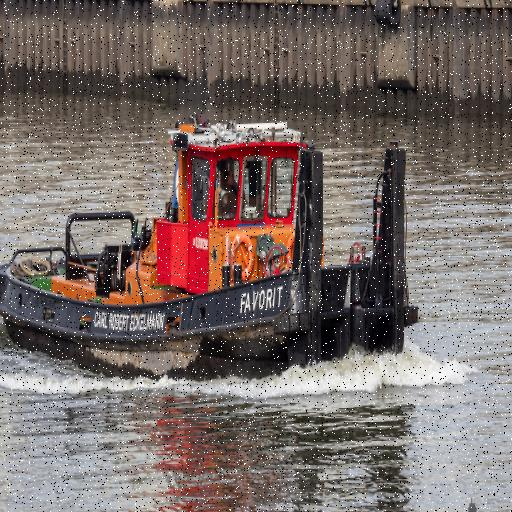tugboat: (1, 113, 424, 393)
